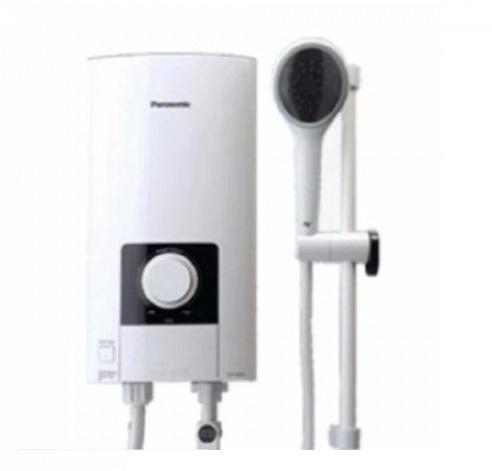Ducha: (69, 45, 400, 453)
